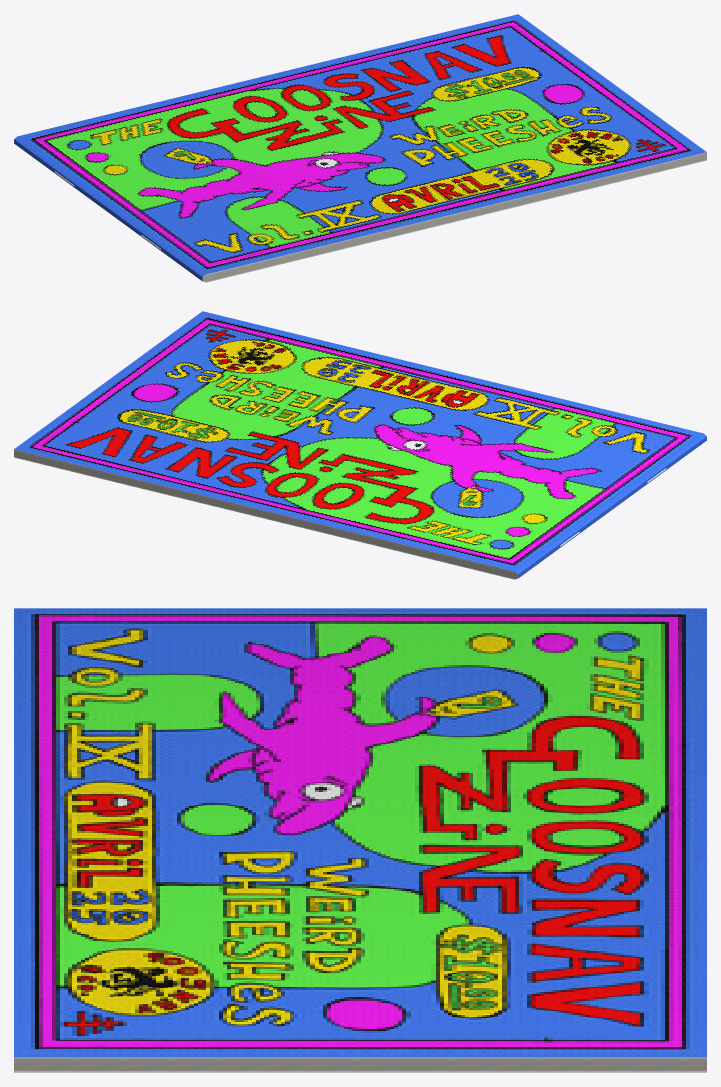
File: zine.glb
The picture shows the model from 3 angles, top to bottom: view 1: azimuth 30°, elevation 25°; view 2: azimuth 150°, elevation 25°; view 3: azimuth 270°, elevation 25°; orthographic projection. The views are drawn at different scales.
Visible parts, largest first — view 1: goosnav_zine_09; view 2: goosnav_zine_09; view 3: goosnav_zine_09.
Boxes of the visible parts, x1,y1,x2,y2 form: goosnav_zine_09: (14,14,706,282); goosnav_zine_09: (14,311,706,579); goosnav_zine_09: (14,608,706,1072).
Size of the model in its own units: 0.2162 by 0.0034 by 0.1397.
6 materials, 3 textured.
